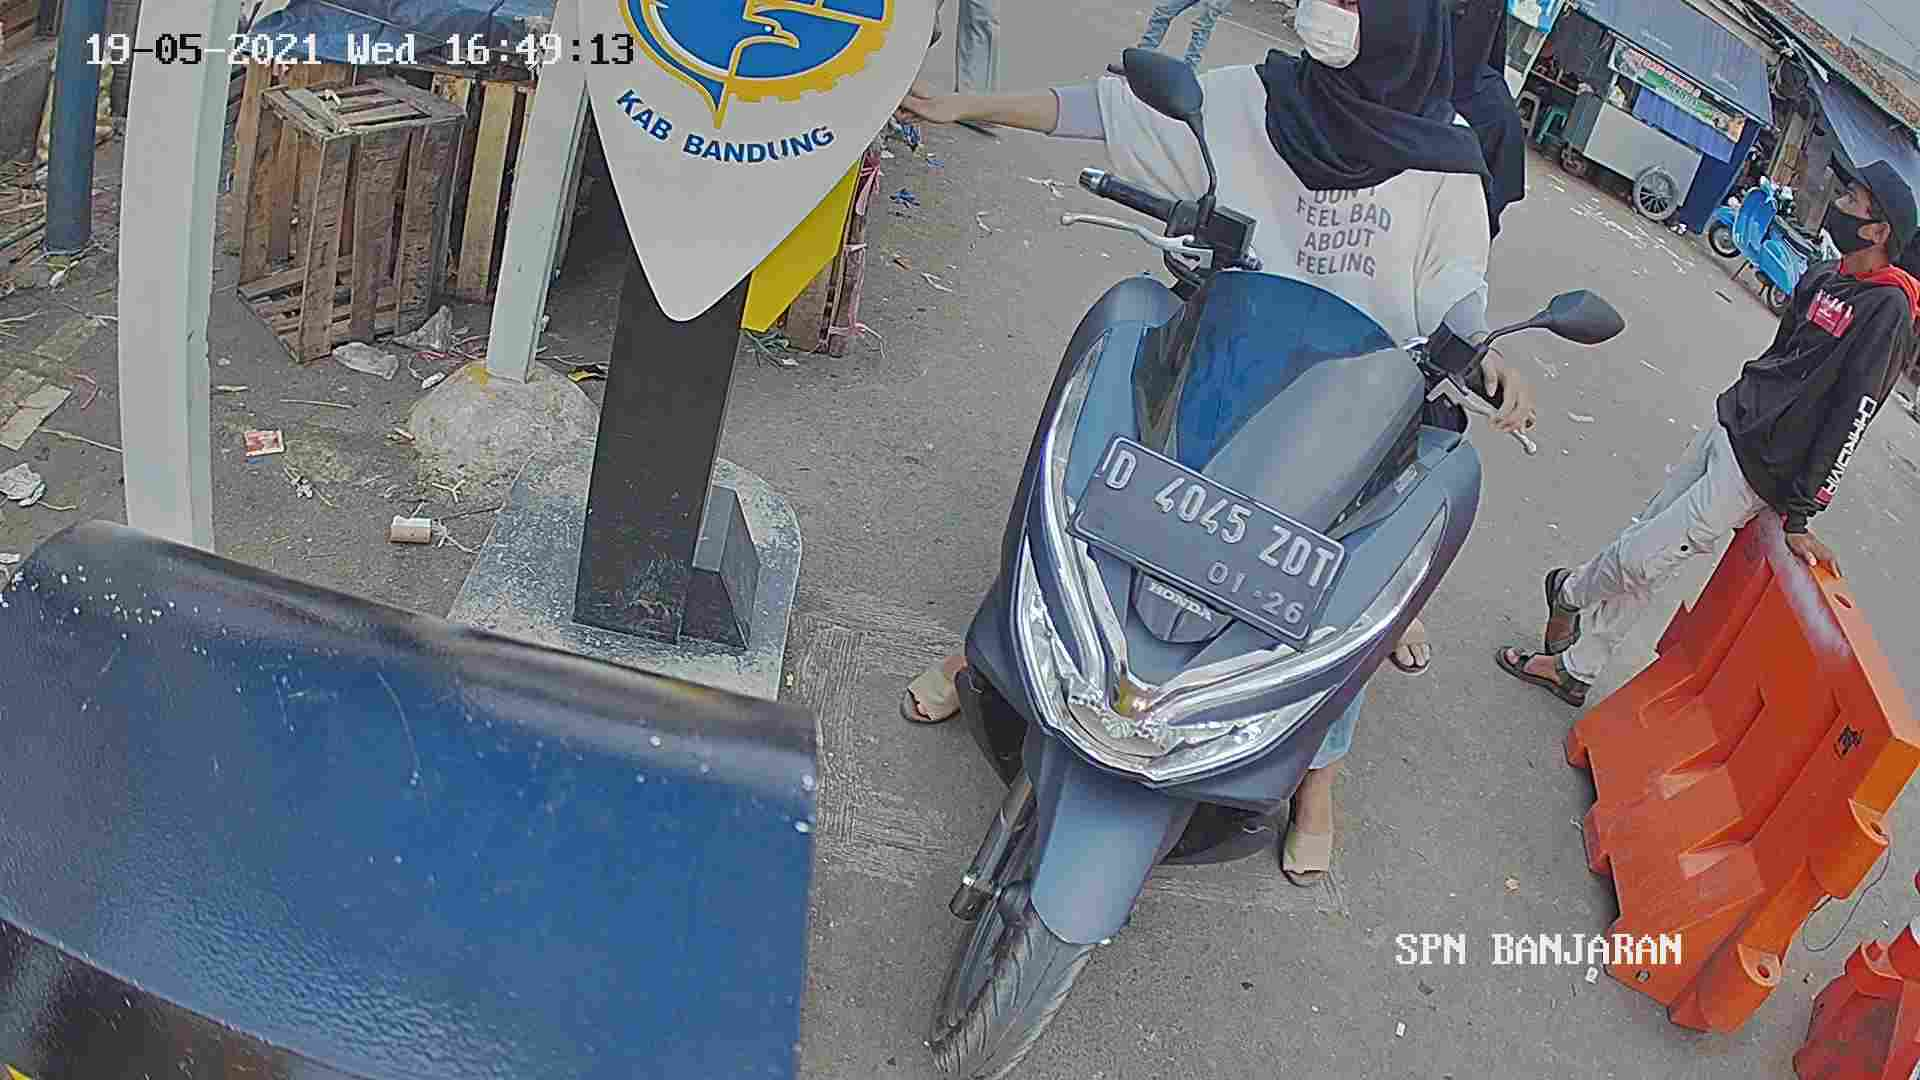motor: (934, 244, 1458, 1080)
